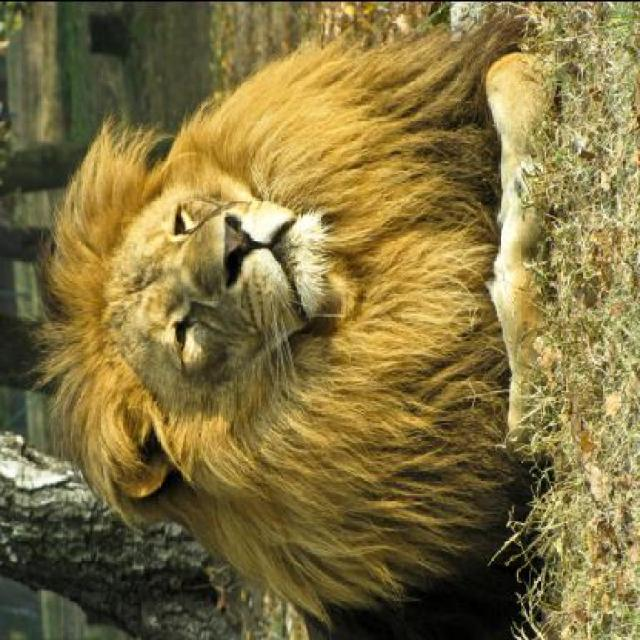Lion: (37, 2, 585, 629)
